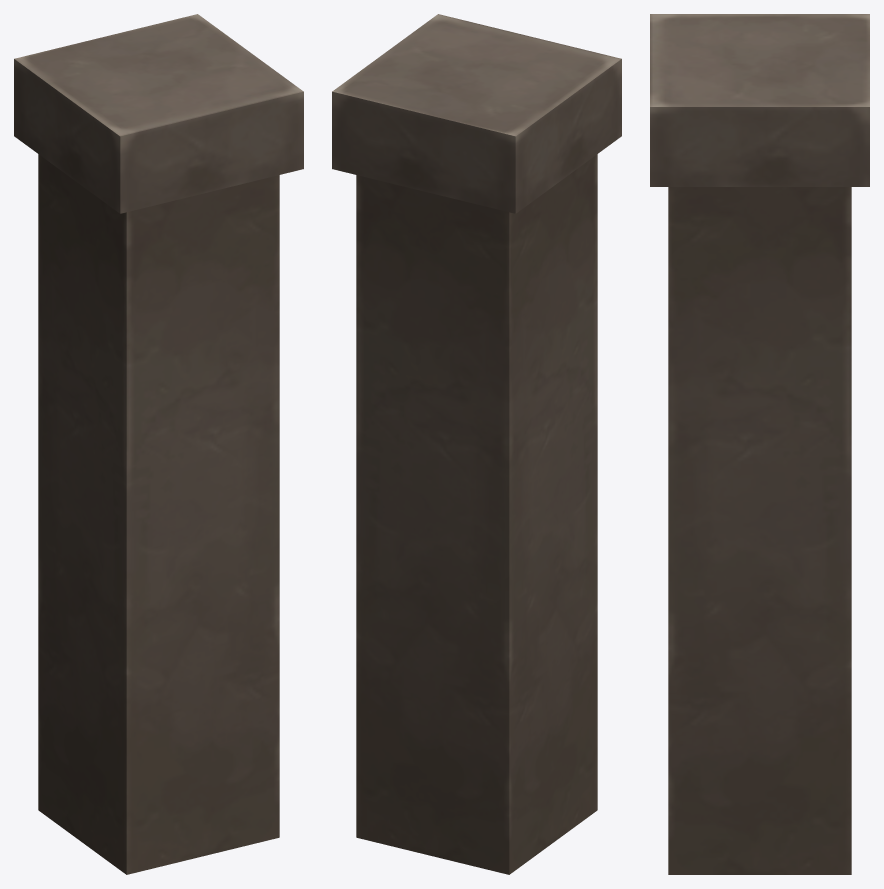
The model's file is blsd_bszhuzi_04.FBX.
The picture shows the model from 3 angles, left to right: view 1: azimuth 30°, elevation 25°; view 2: azimuth 150°, elevation 25°; view 3: azimuth 270°, elevation 25°; orthographic projection. The views are drawn at different scales.
Visible parts, largest first — view 1: blsd_bszhuzi_04; view 2: blsd_bszhuzi_04; view 3: blsd_bszhuzi_04.
Part boxes in pixels (x1,y1,x2,y2): blsd_bszhuzi_04: [14, 14, 303, 874]; blsd_bszhuzi_04: [332, 14, 621, 874]; blsd_bszhuzi_04: [650, 14, 869, 874].
Bounding box in the file's own units: 51.29 × 200 × 51.29.
